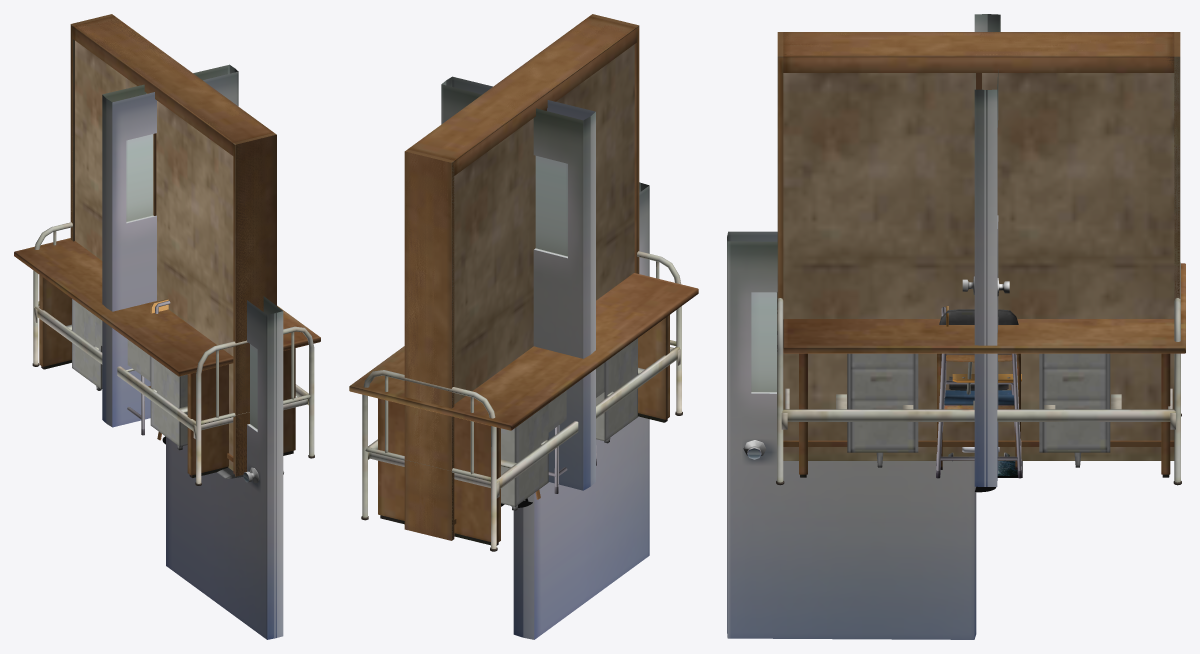
Rendered from daoju_2.fbx.
The picture shows the model from 3 angles, left to right: view 1: azimuth 30°, elevation 25°; view 2: azimuth 150°, elevation 25°; view 3: azimuth 270°, elevation 25°; orthographic projection. The views are drawn at different scales.
Parts seen in each view (by area): view 1: shelf01_1, group9, shelf01_1__1_, pcdesk__8_, HW_doorL_exitB00_13, bed01_prefab, desk_9; view 2: shelf01_1, shelf01_1__1_, pcdesk__8_, HW_doorL_exitB00_13, group9, bed01_prefab, desk_9; view 3: shelf01_1__1_, group9, pcdesk__8_, shelf01_1, desk_9, HW_doorL_exitB00_13, bed01_prefab, chair01_blue_4, crm_deskA000__5_, chair02__6_, crm_chairA000__4__3.
Part boxes in pixels (x1,y1,x2,y2): shelf01_1: (70,14,275,476); group9: (166,296,283,639); shelf01_1__1_: (71,14,276,476); pcdesk__8_: (14,238,320,477); HW_doorL_exitB00_13: (102,64,238,427); bed01_prefab: (32,222,314,485); desk_9: (72,299,187,450); shelf01_1: (405,14,639,540); shelf01_1__1_: (404,14,639,540); pcdesk__8_: (349,273,698,545); HW_doorL_exitB00_13: (441,76,595,490); group9: (513,182,649,639); bed01_prefab: (361,251,682,551); desk_9: (501,338,637,510); shelf01_1__1_: (777,32,1180,460); group9: (727,231,976,639); pcdesk__8_: (783,263,1185,477); shelf01_1: (777,32,1180,446); desk_9: (847,353,1110,467); HW_doorL_exitB00_13: (962,14,1009,486); bed01_prefab: (776,262,1181,485); chair01_blue_4: (937,353,1020,469); crm_deskA000__5_: (936,353,1022,478); chair02__6_: (939,309,1018,461); crm_chairA000__4__3: (936,306,1021,465).
Bounding box in the file's own units: 1.08 × 3.49 × 2.46.
14 materials, 13 textured.
